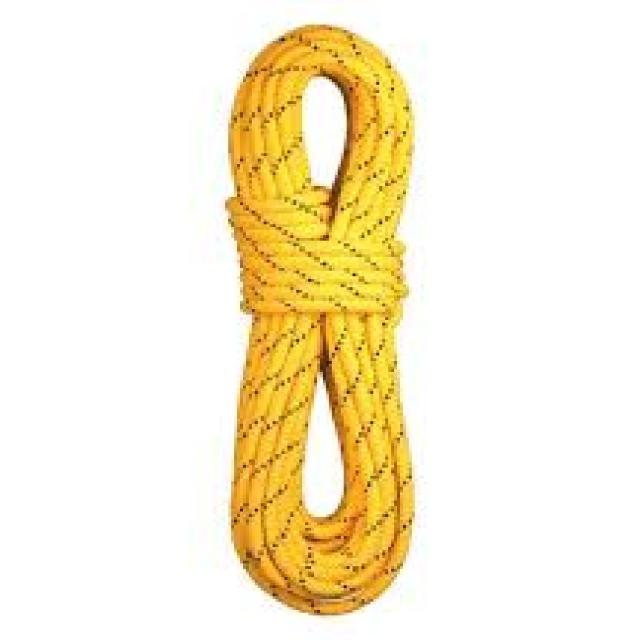rope: (222, 25, 415, 618)
